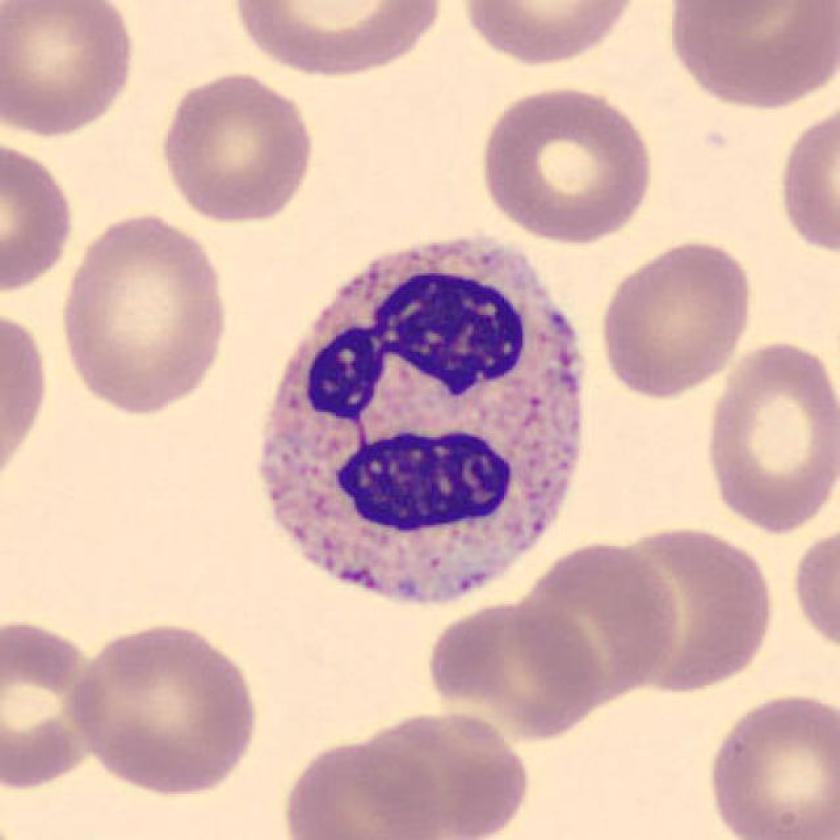neutrophil: (257, 239, 582, 604)
